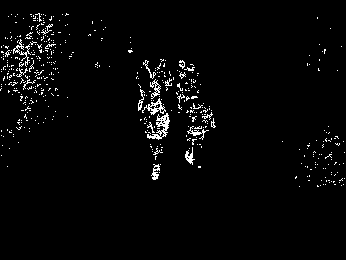person: (143, 97, 170, 180), (187, 102, 216, 163), (137, 59, 154, 110), (153, 58, 173, 99), (184, 65, 200, 105), (176, 59, 185, 108)
